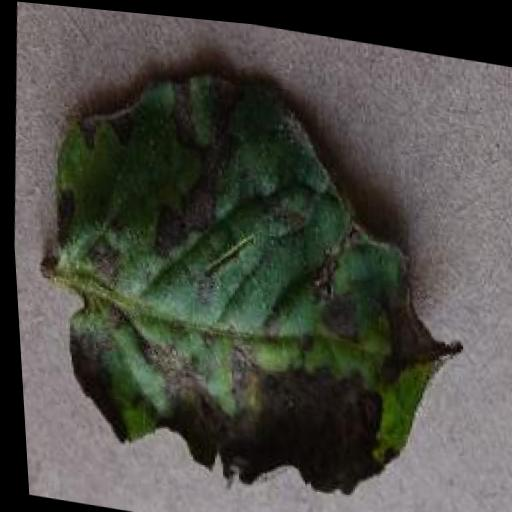Early Blight: (24, 45, 486, 512)
